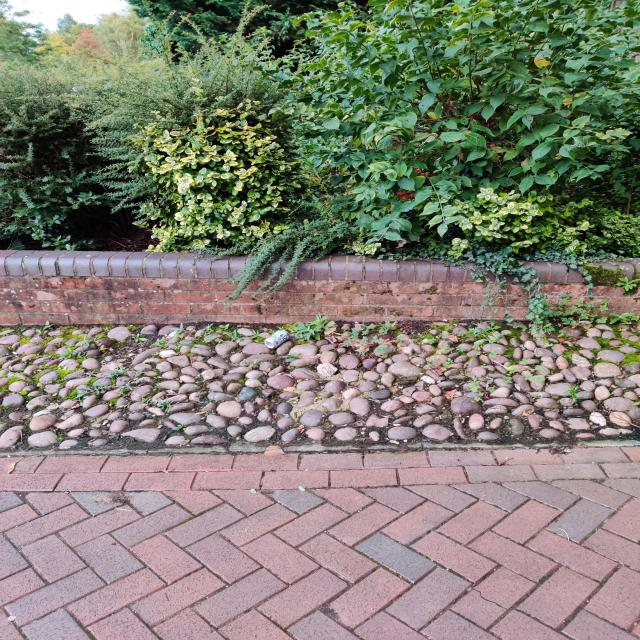litter: (261, 327, 294, 350)
